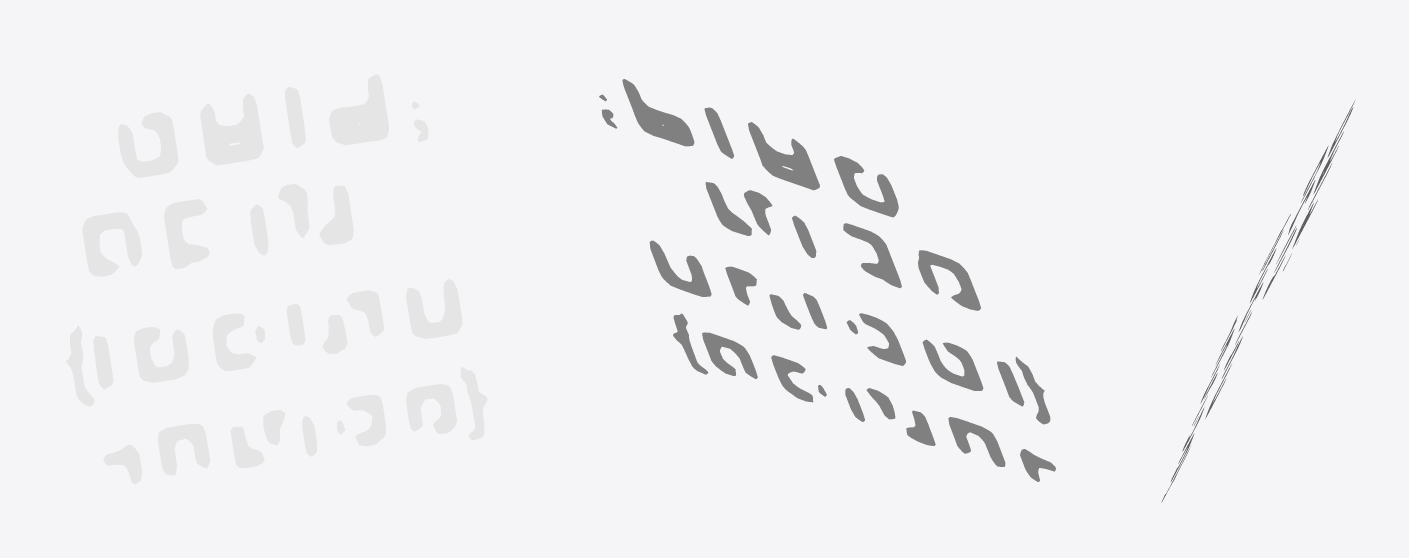
File: paneru_skurin_01.fbx
3 views of the same model, side by side, from view 1: azimuth 30°, elevation 25°; view 2: azimuth 150°, elevation 25°; view 3: azimuth 270°, elevation 25° (orthographic). The views are drawn at different scales.
Visible parts, largest first — view 1: paneru_skurin_01; view 2: paneru_skurin_01; view 3: paneru_skurin_01.
Part boxes in pixels (x1,y1,x2,y2): paneru_skurin_01: (66, 74, 487, 484); paneru_skurin_01: (599, 79, 1055, 481); paneru_skurin_01: (1161, 101, 1354, 502).
Bounding box in the file's own units: 110 × 96.43 × 61.07.
1 material, 1 textured.
